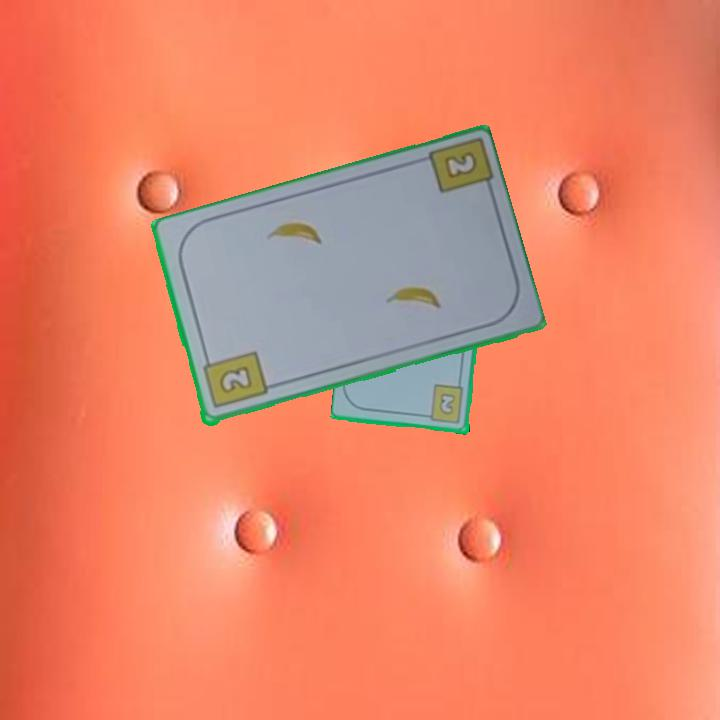2b: (199, 348, 270, 412), (421, 382, 467, 426), (440, 148, 480, 182)
